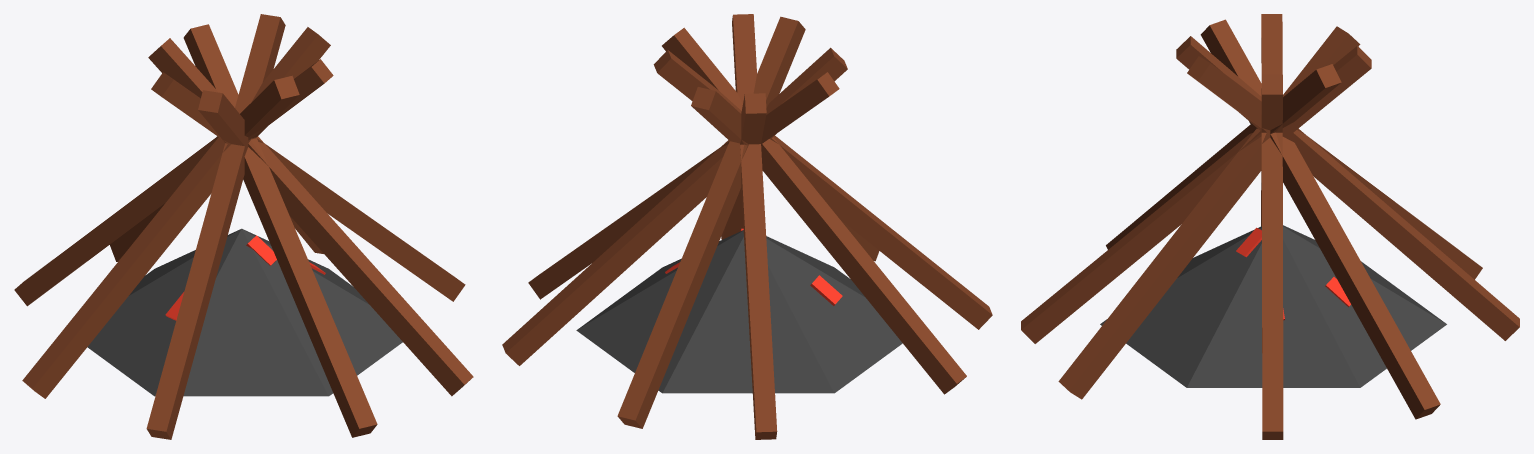
File: fire.fbx
3 views of the same model, side by side, from view 1: azimuth 30°, elevation 25°; view 2: azimuth 150°, elevation 25°; view 3: azimuth 270°, elevation 25° (orthographic).
Visible parts, largest first — view 1: Cone, Cube, Cube.003, Cube.007, Cube.004, Cube.005, Cube.002, Cube.001, Cube.006; view 2: Cone, Cube.003, Cube.001, Cube.006, Cube.005, Cube.007, Cube.002, Cube, Cube.004; view 3: Cone, Cube.006, Cube.004, Cube.001, Cube, Cube.002, Cube.005, Cube.007, Cube.003.
Boxes of the visible parts, x1,y1,x2,y2 form: Cone: (87, 228, 402, 396); Cube: (183, 24, 377, 437); Cube.003: (22, 27, 330, 398); Cube.007: (146, 14, 285, 439); Cube.004: (148, 38, 473, 396); Cube.005: (14, 59, 333, 306); Cube.002: (151, 72, 465, 301); Cube.001: (110, 75, 299, 261); Cube.006: (198, 90, 323, 253); Cone: (576, 230, 902, 393); Cube.003: (662, 27, 966, 394); Cube.001: (617, 16, 805, 428); Cube.006: (502, 47, 847, 365); Cube.005: (732, 14, 777, 439); Cube.007: (653, 50, 992, 329); Cube.002: (528, 72, 839, 299); Cube: (691, 87, 879, 261); Cube.004: (721, 93, 766, 239); Cone: (1100, 225, 1446, 387); Cube.006: (1200, 19, 1440, 419); Cube.004: (1058, 26, 1360, 399); Cube.001: (1176, 36, 1519, 340); Cube: (1021, 45, 1371, 343); Cube.002: (1261, 14, 1283, 439); Cube.005: (1187, 56, 1482, 279); Cube.007: (1106, 64, 1341, 249); Cube.003: (1261, 74, 1282, 226).
Size of the model in its own units: 65.04 by 43.1 by 65.03.
